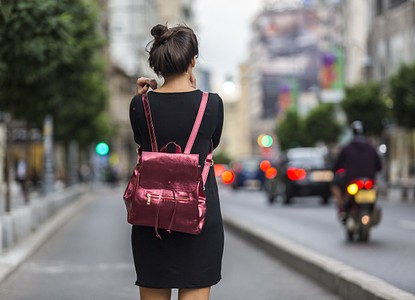bike: (329, 175, 377, 242)
person: (131, 22, 225, 300), (331, 120, 381, 195)
